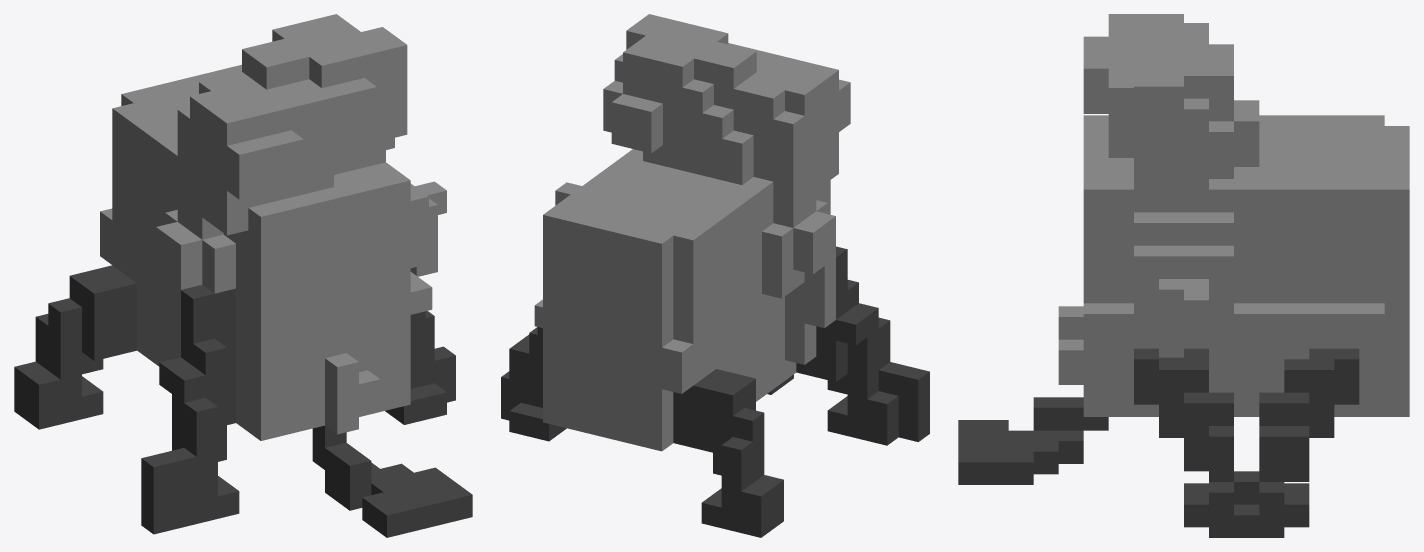
File: lunarMachine.FBX
3 views of the same model, side by side, from view 1: azimuth 30°, elevation 25°; view 2: azimuth 150°, elevation 25°; view 3: azimuth 270°, elevation 25° (orthographic). The views are drawn at different scales.
Visible parts, largest first — view 1: default; view 2: default; view 3: default.
Part boxes in pixels (bbox=[...]): default: bbox=[14, 14, 472, 537]; default: bbox=[501, 14, 929, 537]; default: bbox=[958, 14, 1409, 537].
Size of the model in its own units: 17 by 18 by 18.
1 material, 1 textured.
